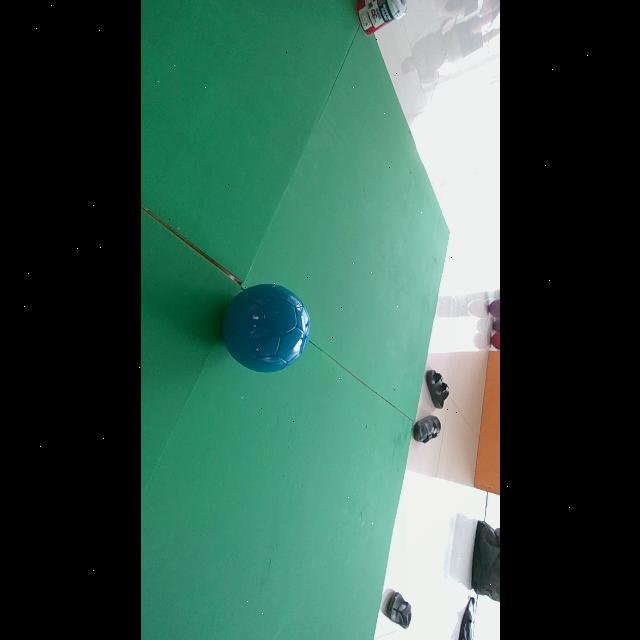B: (222, 283, 310, 372)
P: (489, 299, 500, 318), (493, 318, 500, 332)
R: (491, 332, 500, 350)
